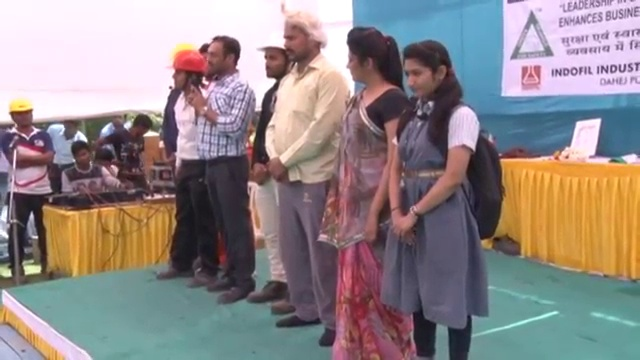helmet: (163, 46, 207, 74), (255, 31, 289, 54), (7, 98, 36, 116)
helmet_off: (397, 37, 458, 112), (341, 27, 397, 89), (276, 11, 327, 63), (199, 34, 241, 83), (132, 113, 154, 142), (71, 143, 93, 171), (61, 117, 81, 142), (94, 148, 114, 172), (109, 114, 127, 131)
helmet_on: (164, 47, 207, 96), (255, 31, 289, 82), (7, 98, 35, 134)
person: (382, 34, 508, 360), (265, 8, 355, 346), (330, 26, 417, 360), (192, 37, 257, 312), (155, 44, 217, 291), (247, 22, 295, 316), (0, 95, 53, 274), (96, 113, 154, 185), (60, 141, 130, 197), (45, 117, 90, 195), (99, 113, 131, 140)
